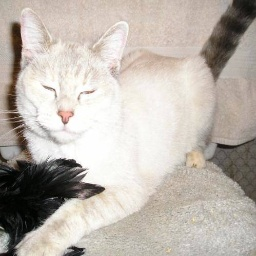cat: (5, 0, 256, 253)
